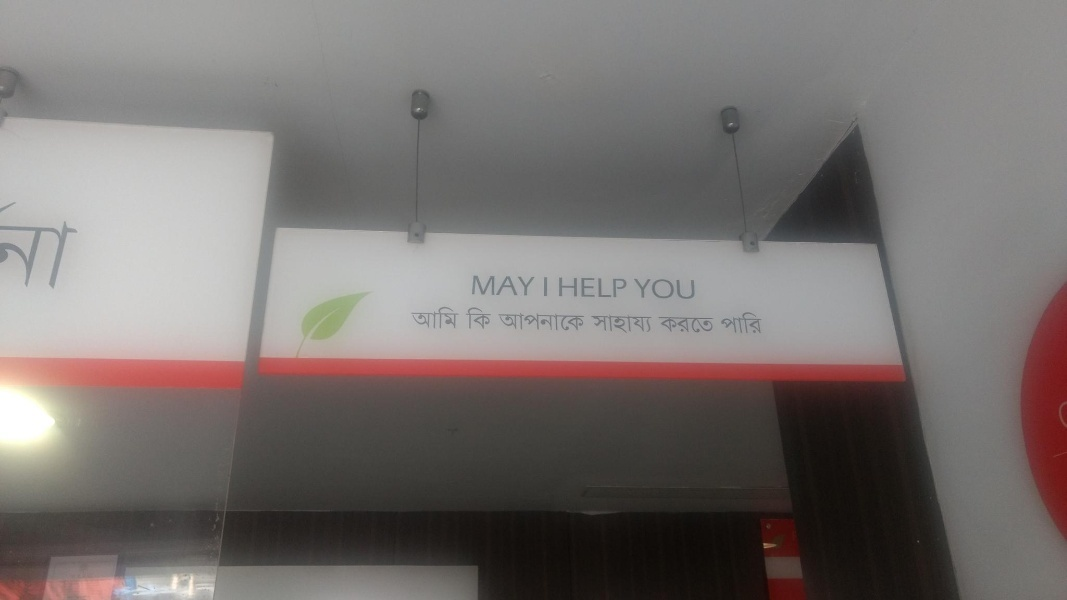text: (65, 220, 81, 305), (17, 220, 32, 305), (33, 220, 48, 305), (49, 220, 64, 305), (5, 220, 16, 305), (561, 276, 576, 302), (577, 276, 592, 302), (593, 276, 608, 302), (609, 276, 624, 302), (465, 304, 480, 330), (641, 277, 656, 302), (657, 277, 672, 302), (673, 277, 688, 302), (417, 305, 432, 330), (433, 305, 448, 330), (657, 315, 672, 340), (673, 315, 688, 340), (689, 315, 704, 340), (721, 311, 736, 336), (737, 311, 752, 336), (449, 305, 463, 330), (481, 275, 496, 298), (497, 275, 512, 298), (513, 275, 528, 298), (497, 311, 512, 332), (513, 311, 528, 332), (529, 311, 544, 332), (545, 311, 560, 332), (561, 311, 576, 332), (481, 304, 493, 330), (593, 315, 608, 335), (609, 315, 624, 335), (625, 315, 640, 335), (641, 315, 656, 335), (705, 315, 716, 340), (753, 311, 764, 336), (689, 277, 699, 302), (632, 277, 640, 302), (577, 311, 585, 332), (473, 275, 480, 298), (529, 275, 536, 298), (545, 274, 551, 299), (411, 305, 416, 330), (556, 276, 560, 302), (540, 274, 544, 299), (625, 276, 628, 302), (590, 315, 592, 335), (719, 311, 720, 336)
